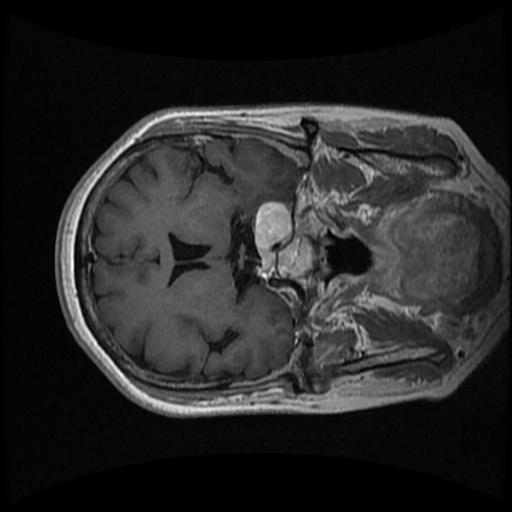meningioma: (254, 200, 293, 251)
